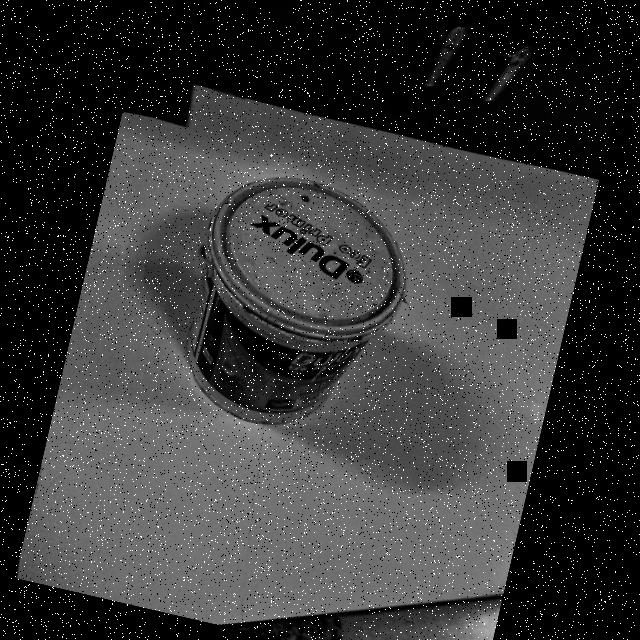paint_bucket: (153, 138, 433, 452)
